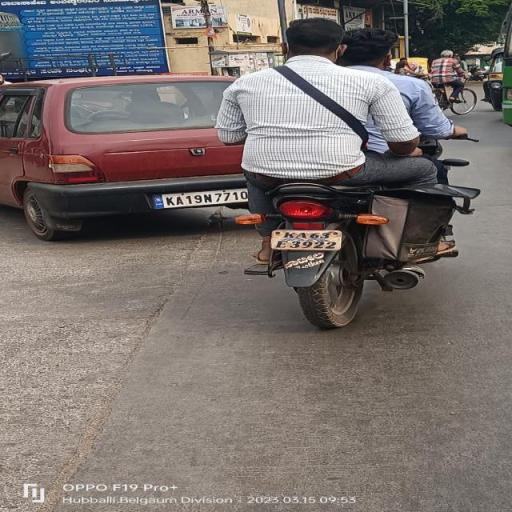bike: (214, 16, 483, 338)
numberplate: (270, 228, 341, 250)
withouthelmet: (284, 18, 347, 57), (344, 28, 394, 70)
